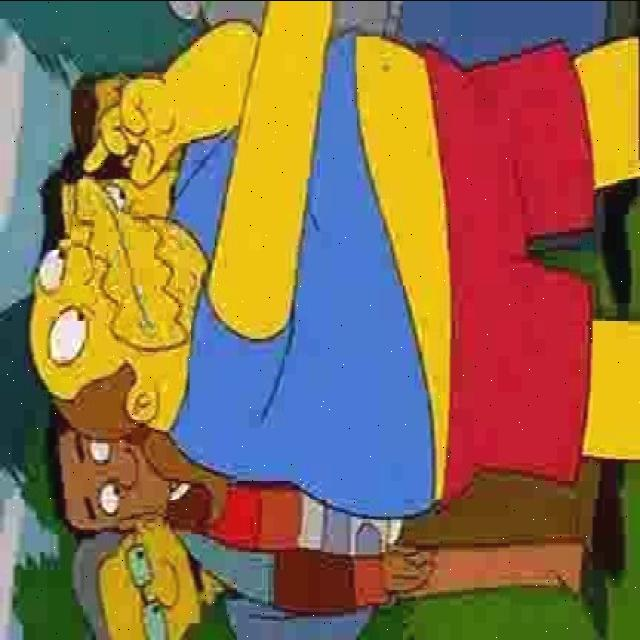Comic Book Guy: (24, 164, 212, 448)
